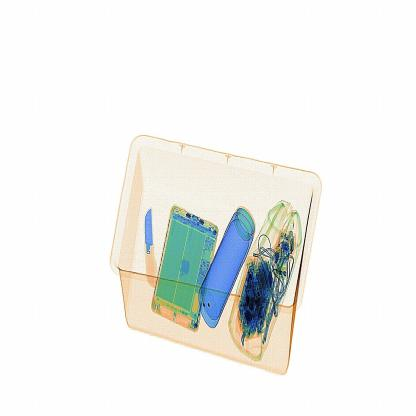wrench: (145, 205, 160, 288)
